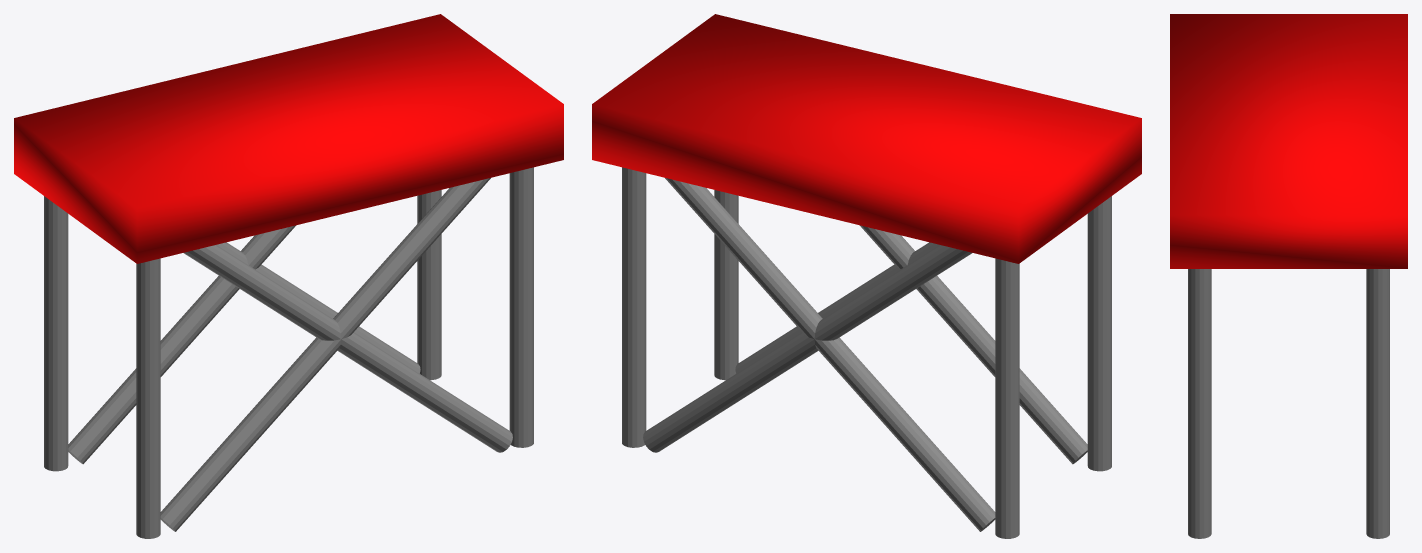
Rendered from Scaffolding.fbx.
The picture shows the model from 3 angles, left to right: view 1: azimuth 30°, elevation 25°; view 2: azimuth 150°, elevation 25°; view 3: azimuth 270°, elevation 25°; orthographic projection. The views are drawn at different scales.
Visible parts, largest first — view 1: Cube, Cylinder.001, Cylinder.005, Cylinder.002, Cylinder.004, Cylinder.003, Cylinder.006, Cylinder, Cylinder.007; view 2: Cube, Cylinder.006, Cylinder.007, Cylinder.003, Cylinder, Cylinder.002, Cylinder.001, Cylinder.004, Cylinder.005; view 3: Cube, Cylinder, Cylinder.004.
Boxes of the visible parts, <box> form: Cube: <box>14,14,563,263</box>; Cylinder.001: <box>160,178,490,531</box>; Cylinder.005: <box>183,245,512,452</box>; Cylinder.002: <box>136,258,160,538</box>; Cylinder.004: <box>509,167,533,447</box>; Cylinder.003: <box>44,196,68,471</box>; Cylinder.006: <box>68,225,295,464</box>; Cylinder: <box>417,190,441,380</box>; Cylinder.007: <box>216,242,420,373</box>; Cube: <box>592,14,1141,263</box>; Cylinder.006: <box>665,178,995,531</box>; Cylinder.007: <box>643,245,972,452</box>; Cylinder.003: <box>995,258,1019,538</box>; Cylinder: <box>622,167,646,447</box>; Cylinder.002: <box>1087,196,1111,471</box>; Cylinder.001: <box>860,225,1087,464</box>; Cylinder.004: <box>714,190,738,380</box>; Cylinder.005: <box>735,242,939,373</box>; Cube: <box>1170,14,1407,268</box>; Cylinder: <box>1366,269,1389,538</box>; Cylinder.004: <box>1188,269,1211,538</box>.
Size of the model in its own units: 400 by 310 by 200.
2 materials, 1 textured.
